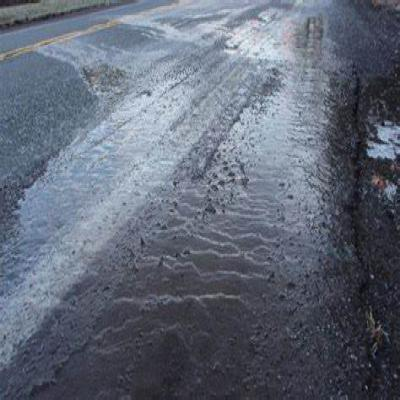iced-road: (0, 2, 400, 399)
